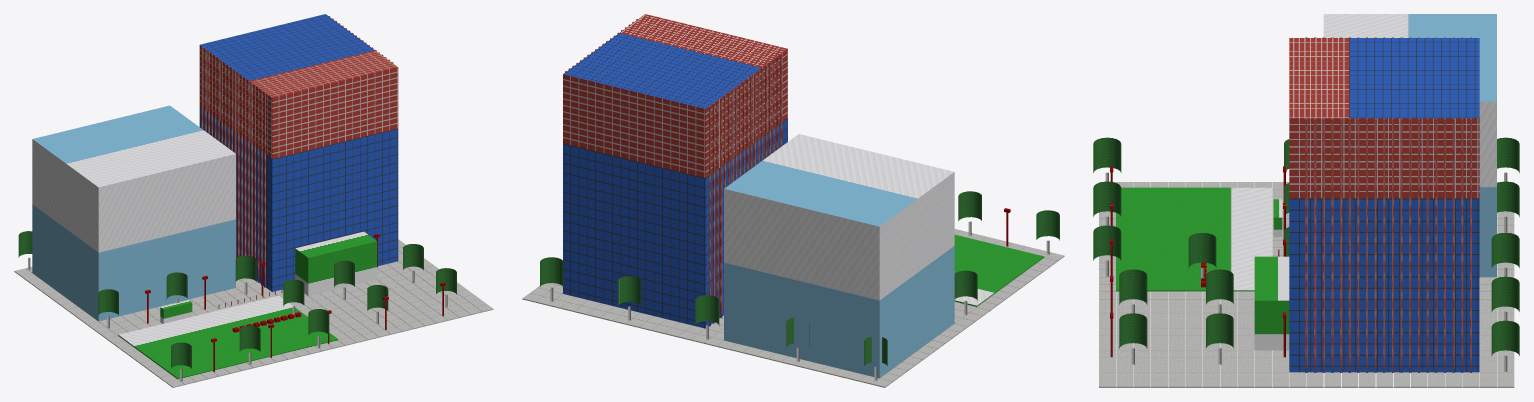
3 renders of one model, left to right at view 1: azimuth 30°, elevation 25°; view 2: azimuth 150°, elevation 25°; view 3: azimuth 270°, elevation 25°, orthographic. The views are drawn at different scales.
Parts seen in each view (by area): view 1: 28185_B24_SUNY_Korea; view 2: 28185_B24_SUNY_Korea; view 3: 28185_B24_SUNY_Korea.
Boxes of the visible parts, box(x1,y1,x2,y2) form: 28185_B24_SUNY_Korea: box(14, 14, 493, 387); 28185_B24_SUNY_Korea: box(522, 14, 1064, 387); 28185_B24_SUNY_Korea: box(1093, 14, 1519, 387).
Bounding box in the file's own units: 55.95 × 32.5 × 49.2.
1 material, 1 textured.
